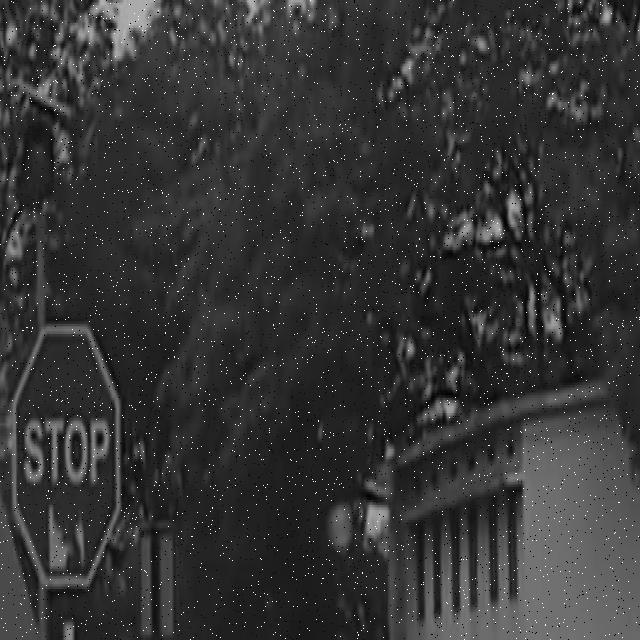stop: (8, 326, 122, 590)
